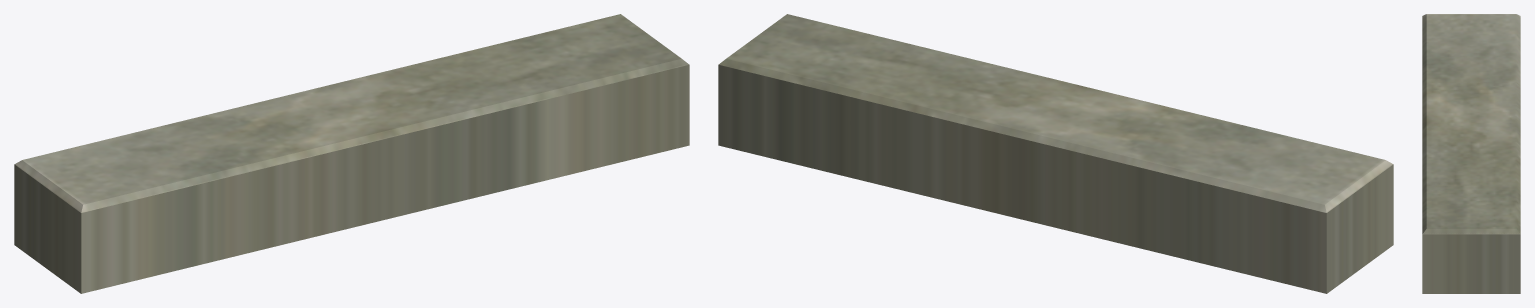
Rendered from f03-t-stone-raised-border-showcase-north.glb.
3 views of the same model, side by side, from view 1: azimuth 30°, elevation 25°; view 2: azimuth 150°, elevation 25°; view 3: azimuth 270°, elevation 25° (orthographic). The views are drawn at different scales.
Parts seen in each view (by area): view 1: f03-t-stone-raised-border-showcase-north; view 2: f03-t-stone-raised-border-showcase-north; view 3: f03-t-stone-raised-border-showcase-north.
Part boxes in pixels (x1,y1,x2,y2): f03-t-stone-raised-border-showcase-north: (14, 14, 689, 293); f03-t-stone-raised-border-showcase-north: (718, 14, 1393, 293); f03-t-stone-raised-border-showcase-north: (1422, 14, 1520, 293).
Bounding box in the file's own units: 1 × 0.135 × 0.19.
1 material, 1 textured.
